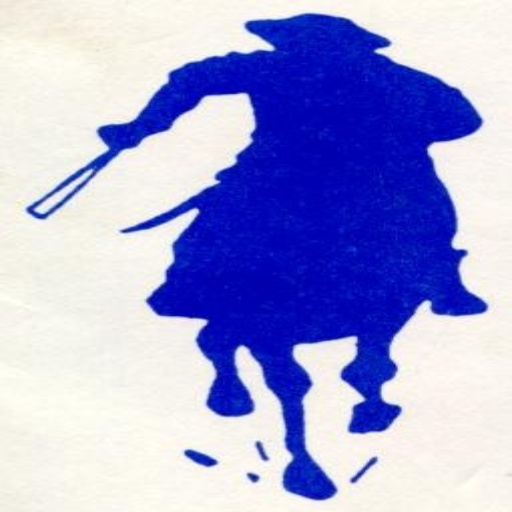hand: (90, 124, 146, 137)
